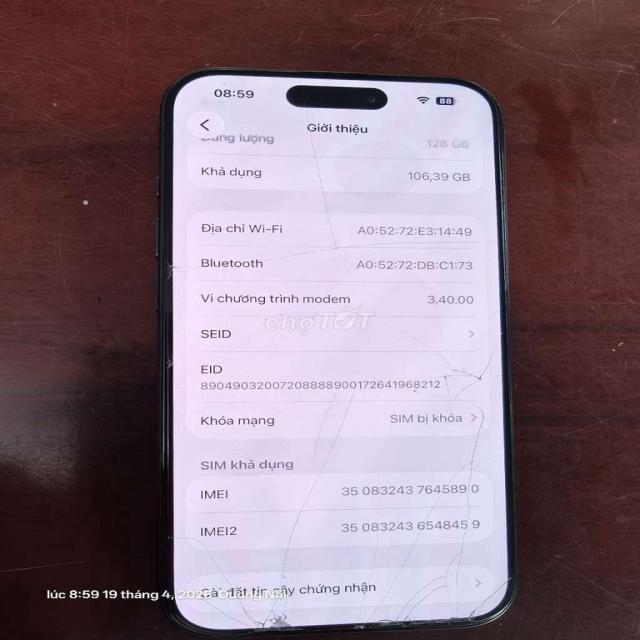gen_15: (158, 68, 513, 629)
